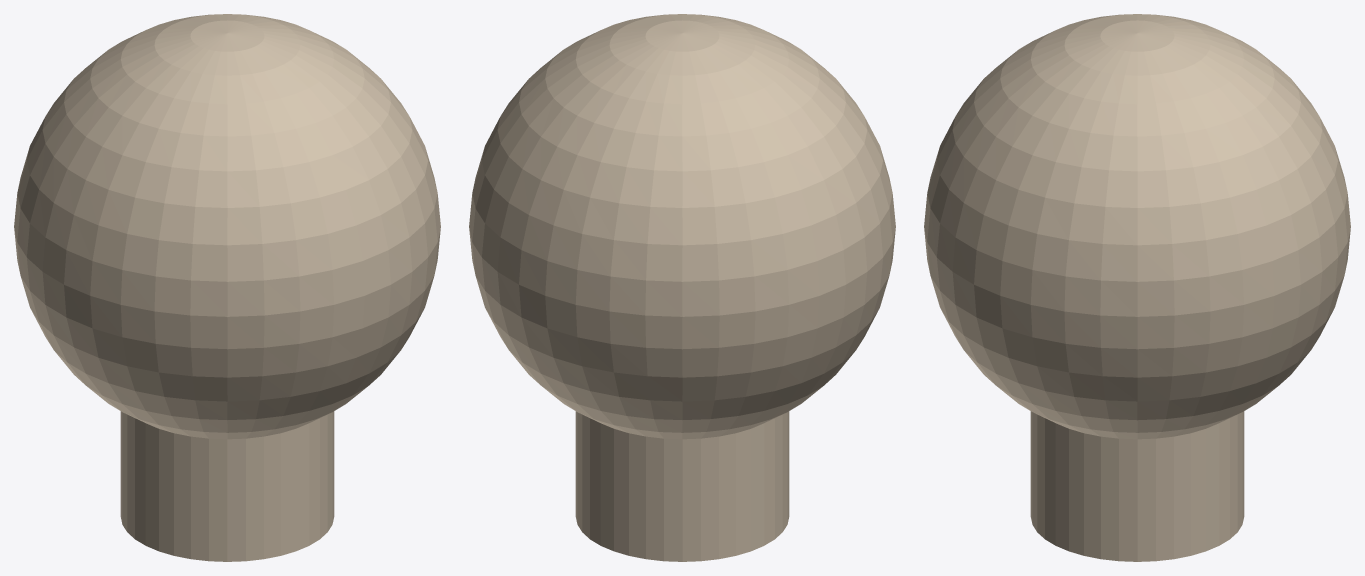
The model's file is head.glb.
3 views of the same model, side by side, from view 1: azimuth 30°, elevation 25°; view 2: azimuth 150°, elevation 25°; view 3: azimuth 270°, elevation 25° (orthographic).
Visible parts, largest first — view 1: Mesh_Mesh_head_geo.001_lambert2SG.001; view 2: Mesh_Mesh_head_geo.001_lambert2SG.001; view 3: Mesh_Mesh_head_geo.001_lambert2SG.001.
Boxes of the visible parts, box(x1,y1,x2,y2) form: Mesh_Mesh_head_geo.001_lambert2SG.001: box(14, 14, 440, 561); Mesh_Mesh_head_geo.001_lambert2SG.001: box(469, 14, 895, 561); Mesh_Mesh_head_geo.001_lambert2SG.001: box(924, 14, 1350, 561).
Bounding box in the file's own units: 2 × 2.5 × 2.
